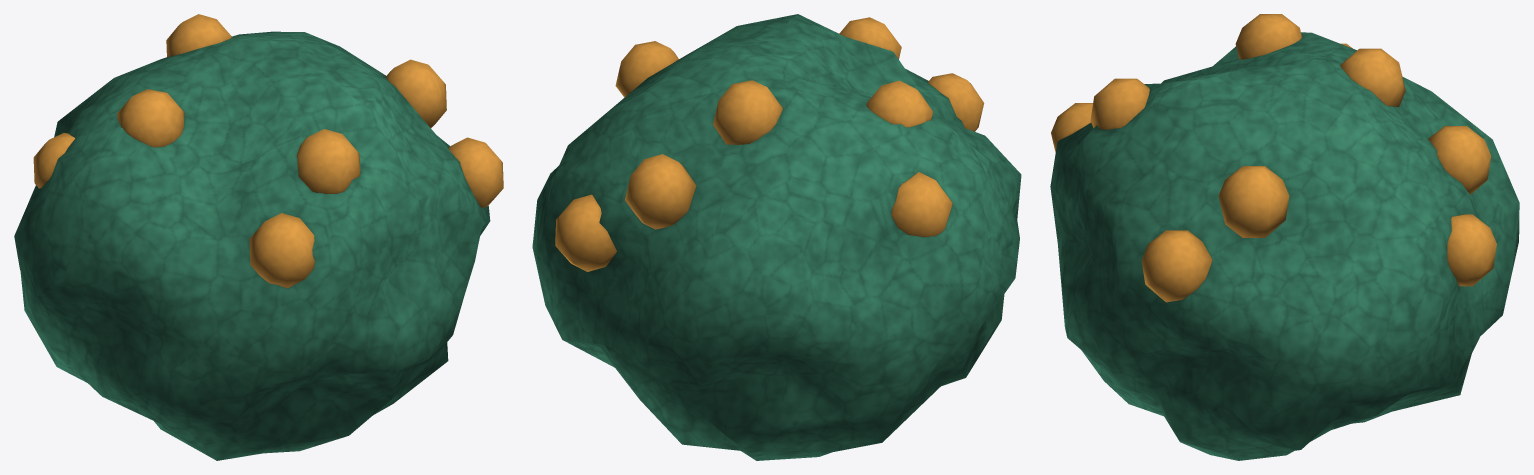
Rendered from creature_fruit_bush.glb.
The picture shows the model from 3 angles, left to right: view 1: azimuth 30°, elevation 25°; view 2: azimuth 150°, elevation 25°; view 3: azimuth 270°, elevation 25°; orthographic projection.
Visible parts, largest first — view 1: Bush, Fruit; view 2: Bush, Fruit; view 3: Bush, Fruit.
Part boxes in pixels (x1,y1,x2,y2): Bush: [14, 31, 490, 460]; Fruit: [33, 14, 503, 288]; Bush: [532, 14, 1021, 460]; Fruit: [555, 17, 984, 271]; Bush: [1050, 32, 1519, 460]; Fruit: [1051, 14, 1496, 302].
Size of the model in its own units: 0.889 by 0.7317 by 0.8165.
2 materials, 2 textured.
